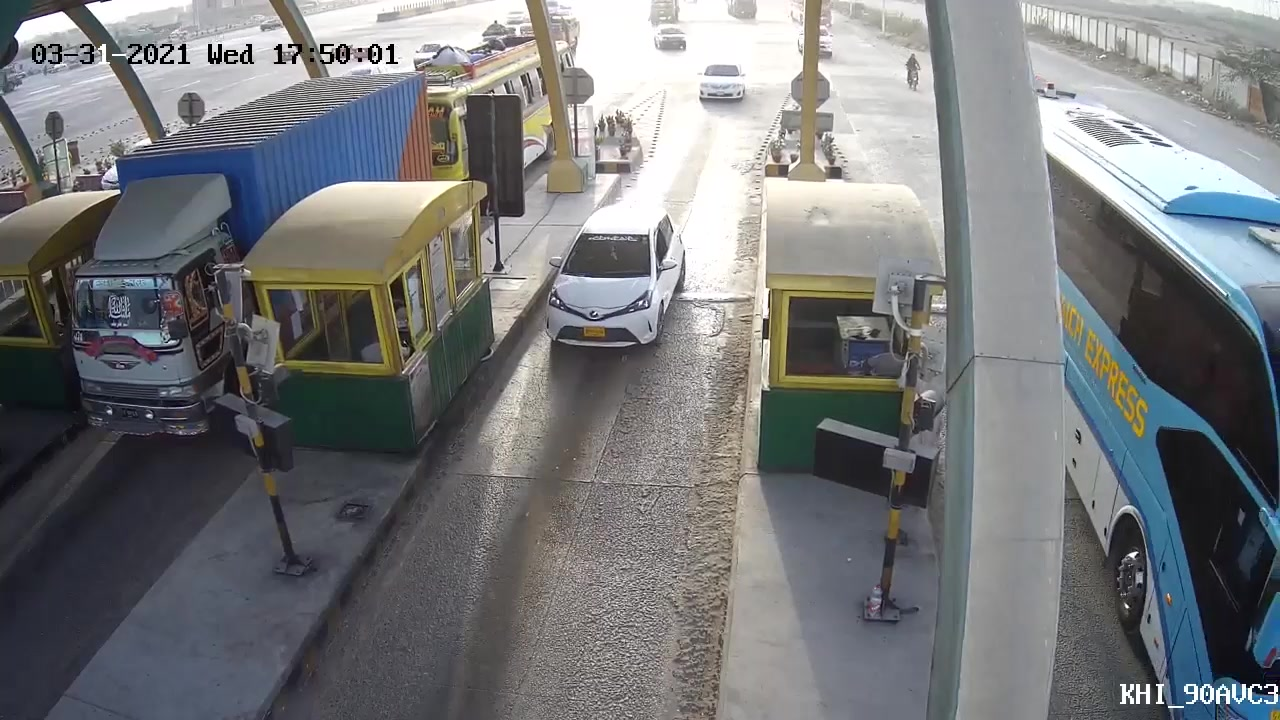F1: (529, 201, 691, 349)
